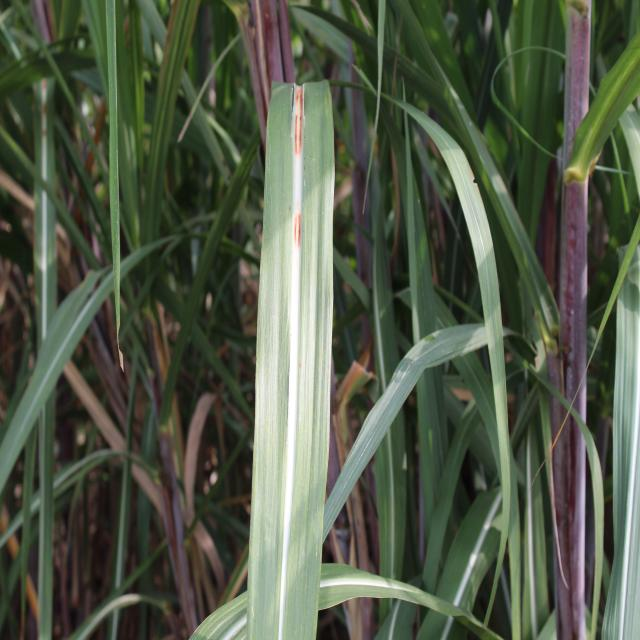Sugarcane: (244, 77, 334, 640)
